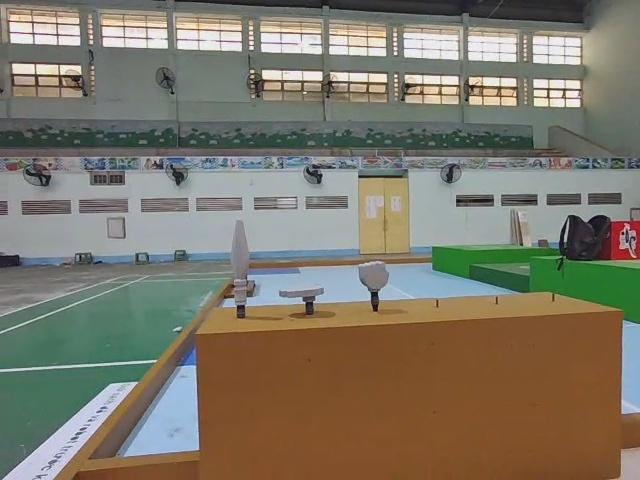Fist: (357, 261, 392, 312)
Hand: (275, 281, 325, 314)
Sph: (226, 218, 249, 321)
